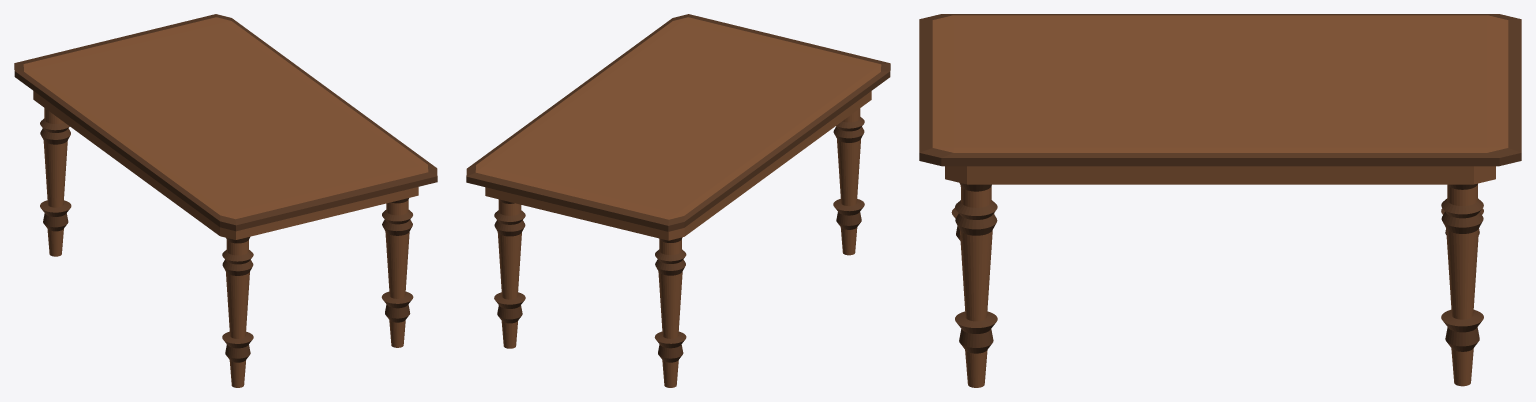
Rendered from Rechteckigertisch.fbx.
3 renders of one model, left to right at view 1: azimuth 30°, elevation 25°; view 2: azimuth 150°, elevation 25°; view 3: azimuth 270°, elevation 25°, orthographic. The views are drawn at different scales.
Visible parts, largest first — view 1: Cube, Bein 1.002, Bein 1.003, Bein 1.001; view 2: Cube, Bein 1.001, Bein 1, Bein 1.002; view 3: Cube, Bein 1.003, Bein 1.
Part boxes in pixels (x1,y1,x2,y2): Cube: (14, 14, 437, 239); Bein 1.002: (222, 237, 253, 387); Bein 1.003: (381, 198, 413, 347); Bein 1.001: (40, 108, 71, 256); Cube: (466, 14, 890, 240); Bein 1.001: (654, 237, 686, 387); Bein 1: (494, 199, 525, 348); Bein 1.002: (833, 108, 864, 255); Cube: (919, 14, 1521, 184); Bein 1.003: (955, 182, 997, 387); Bein 1: (1441, 183, 1483, 386).
Size of the model in its own units: 448 by 357 by 791.
